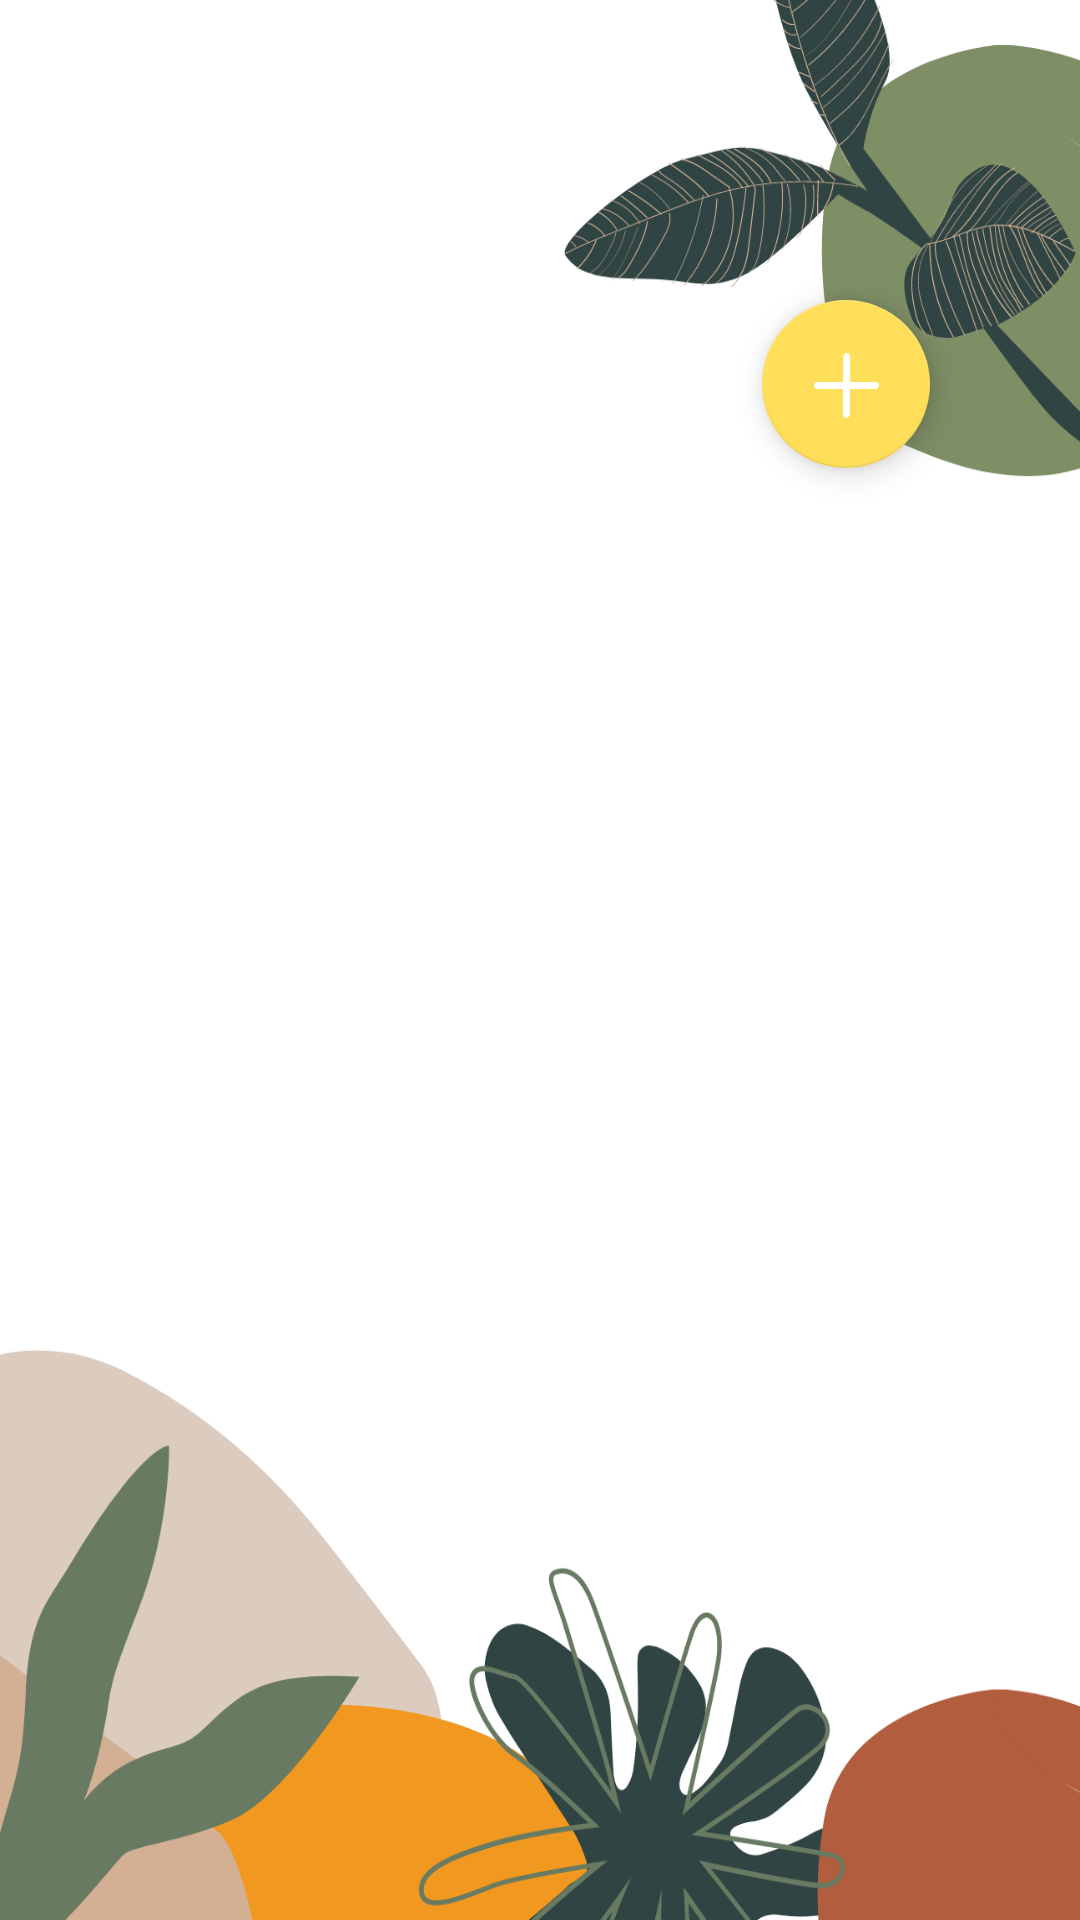

Locate icon controls on the screen. Image size 1080px x 1920px, boxes as (x1, y1, x2, y2).
plus wh: (762, 300, 930, 468)
